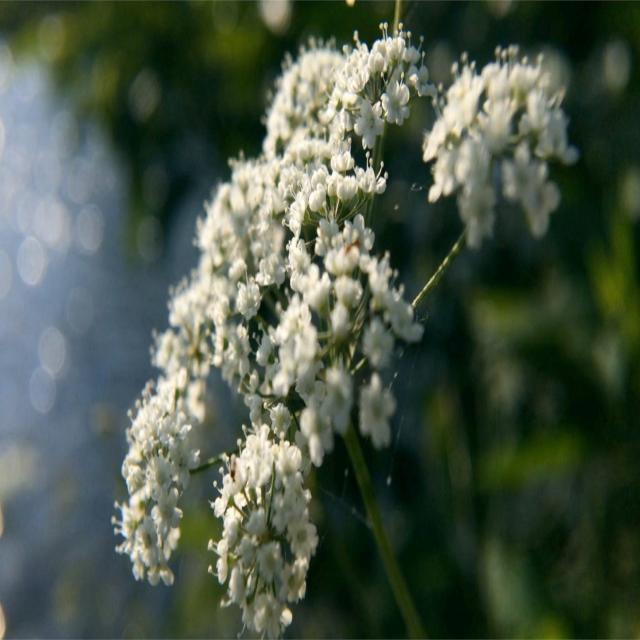Poisonous-Hemlock: (116, 224, 443, 640), (170, 0, 448, 231)
